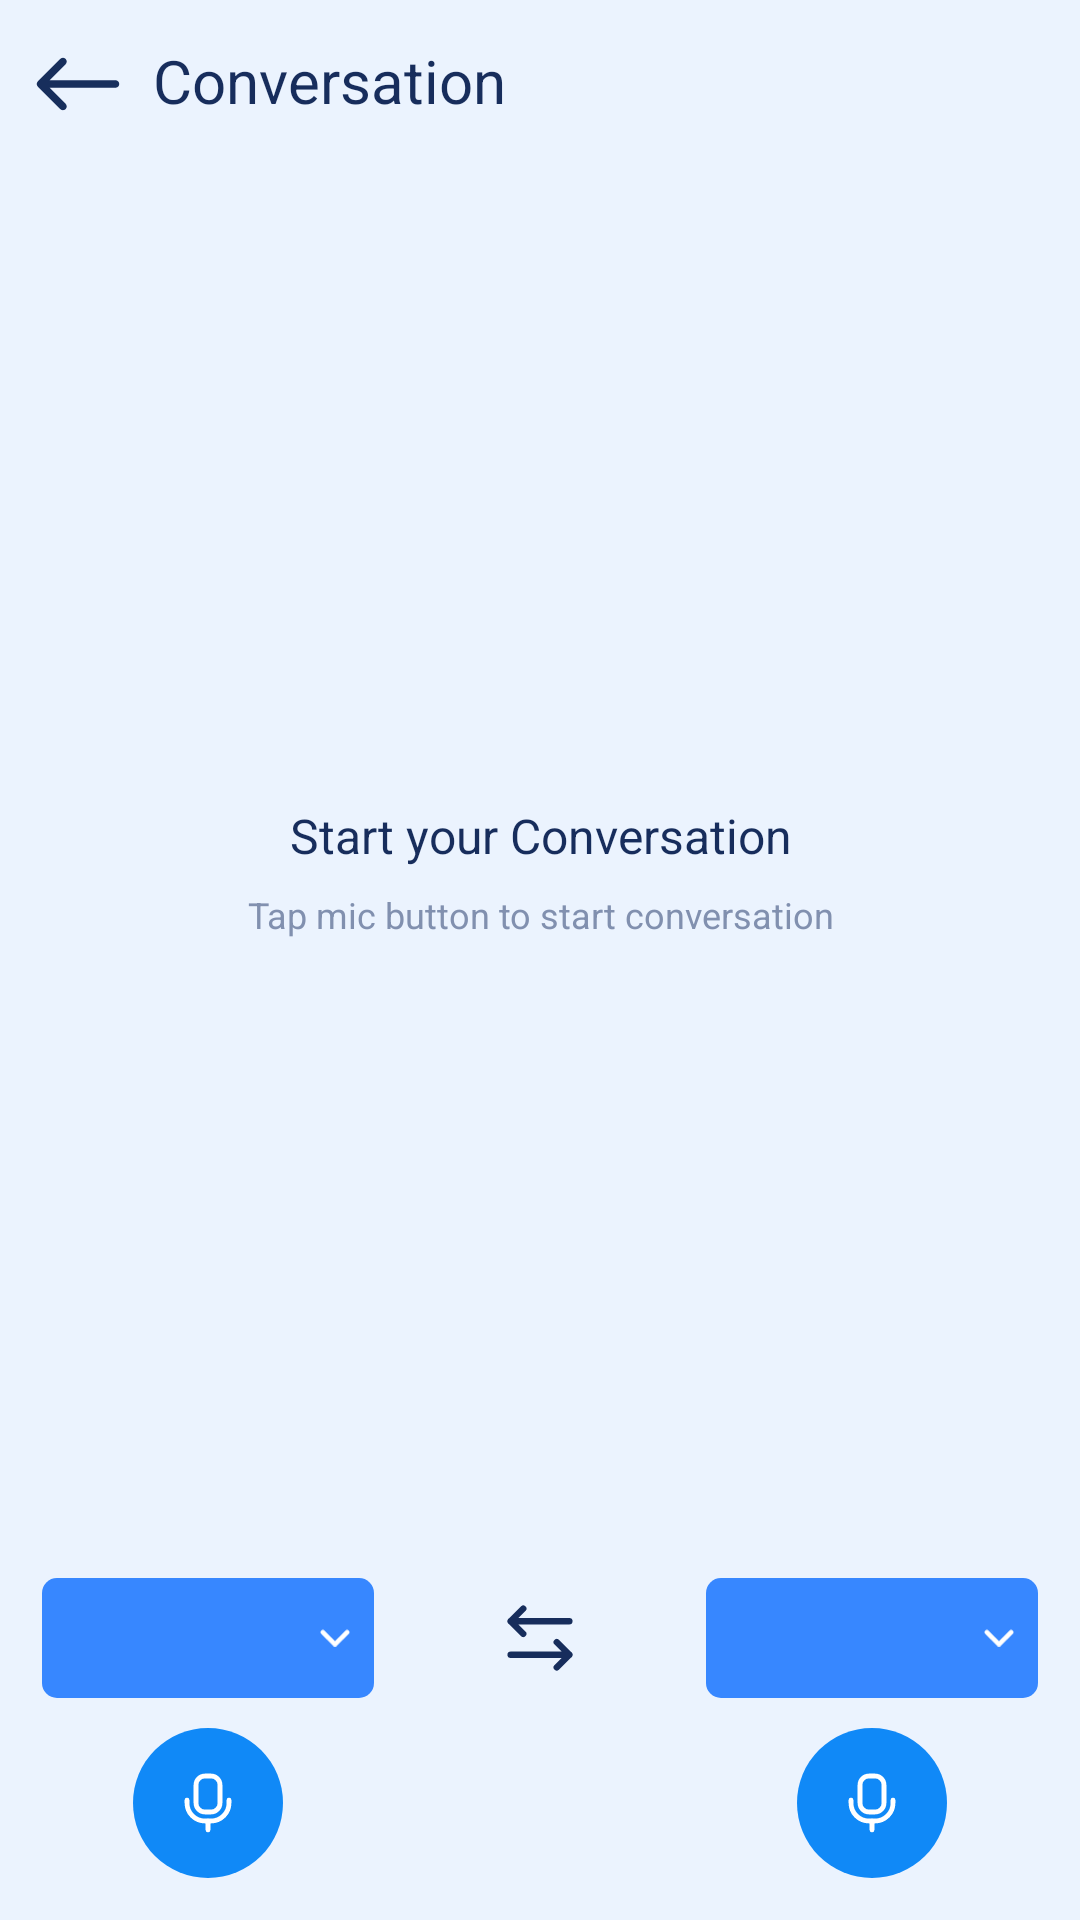

Named icons in this screenshot (1080w x 1920h) and their bounding boxes, (x1, y1, x2, y2):
down: (320, 1629, 350, 1647), (984, 1629, 1014, 1647)
left arrow: (36, 57, 120, 111)
